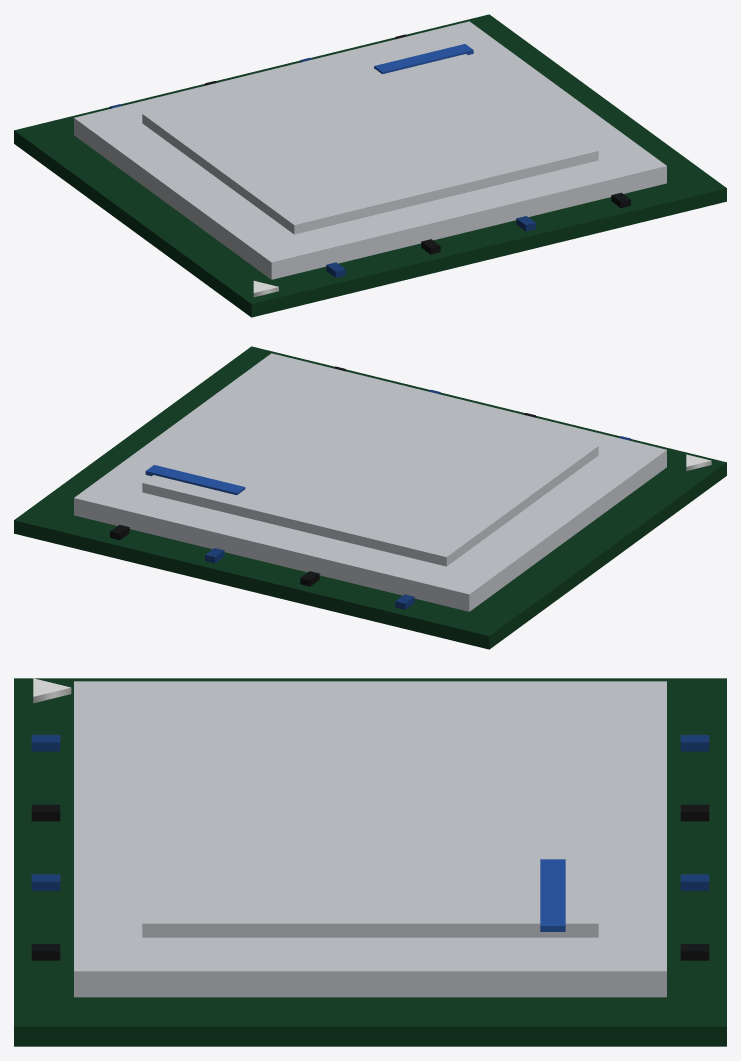
Rendered from hw_cpu_xeon_e3_1230.glb.
3 views of the same model, one above another, from view 1: azimuth 30°, elevation 25°; view 2: azimuth 150°, elevation 25°; view 3: azimuth 270°, elevation 25° (orthographic). The views are drawn at different scales.
Parts seen in each view (by area): view 1: Body; view 2: Body; view 3: Body.
Boxes of the visible parts, <box> form: Body: <box>14,14,726,317</box>; Body: <box>14,346,726,649</box>; Body: <box>14,678,726,1046</box>.
Size of the model in its own units: 0.052 by 0.00467 by 0.045.
